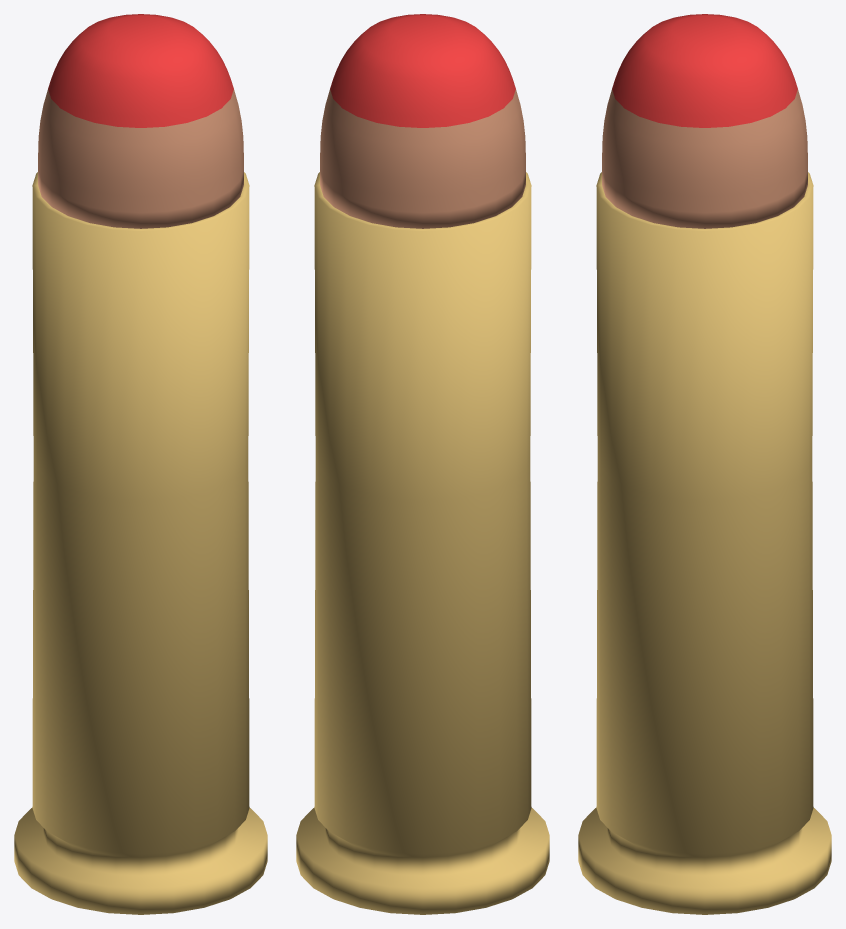
3 renders of one model, left to right at view 1: azimuth 30°, elevation 25°; view 2: azimuth 150°, elevation 25°; view 3: azimuth 270°, elevation 25°, orthographic.
Parts seen in each view (by area): view 1: vaina, bala_cuerpo, punta; view 2: vaina, bala_cuerpo, punta; view 3: vaina, bala_cuerpo, punta.
Part boxes in pixels (x1,y1,x2,y2): vaina: (14,172,267,914); bala_cuerpo: (38,89,243,228); punta: (48,14,233,127); vaina: (296,172,549,914); bala_cuerpo: (320,89,525,228); punta: (330,14,515,127); vaina: (578,172,831,914); bala_cuerpo: (602,89,807,228); punta: (612,14,797,127).
Size of the model in its own units: 0.0112 by 0.0406 by 0.0112.
